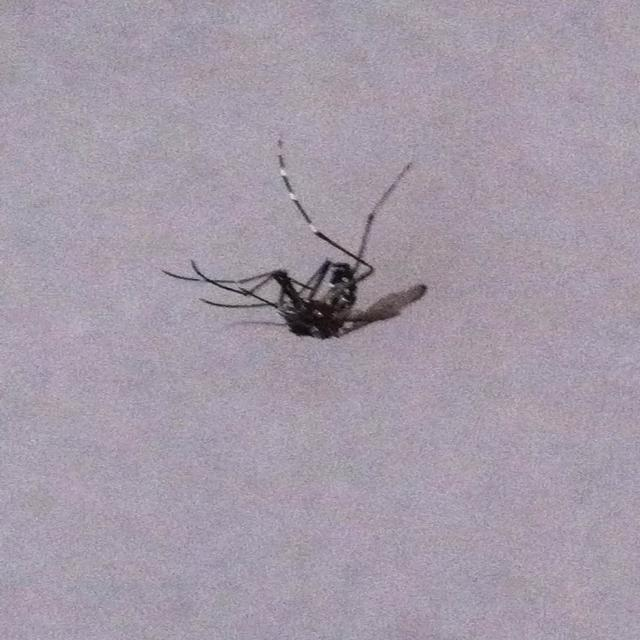albopictus: (152, 132, 454, 362)
